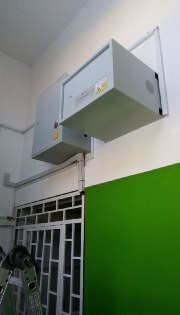shta-7m: (58, 37, 165, 144)
